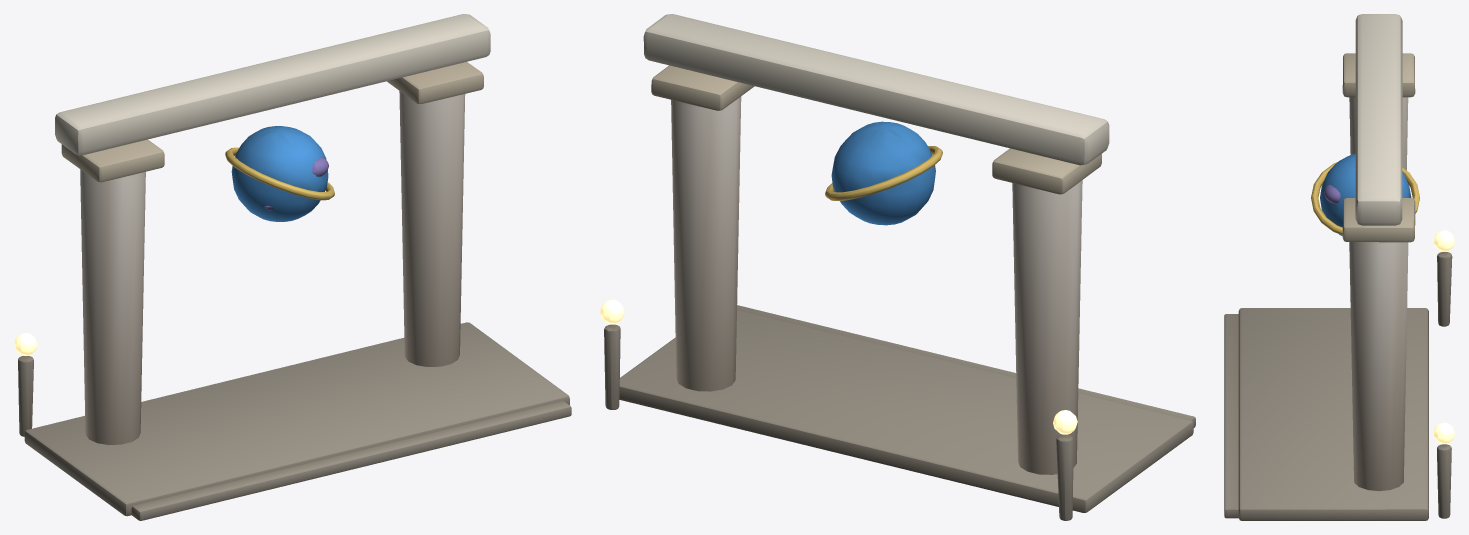
3 renders of one model, left to right at view 1: azimuth 30°, elevation 25°; view 2: azimuth 150°, elevation 25°; view 3: azimuth 270°, elevation 25°, orthographic. The views are drawn at different scales.
Visible parts, largest first — view 1: gate_dcaa0461; view 2: gate_dcaa0461; view 3: gate_dcaa0461.
Part boxes in pixels (x1,y1,x2,y2): gate_dcaa0461: [14, 14, 571, 520]; gate_dcaa0461: [600, 14, 1195, 520]; gate_dcaa0461: [1224, 14, 1454, 520].
Size of the model in its own units: 5.29 by 3.85 by 2.55.
